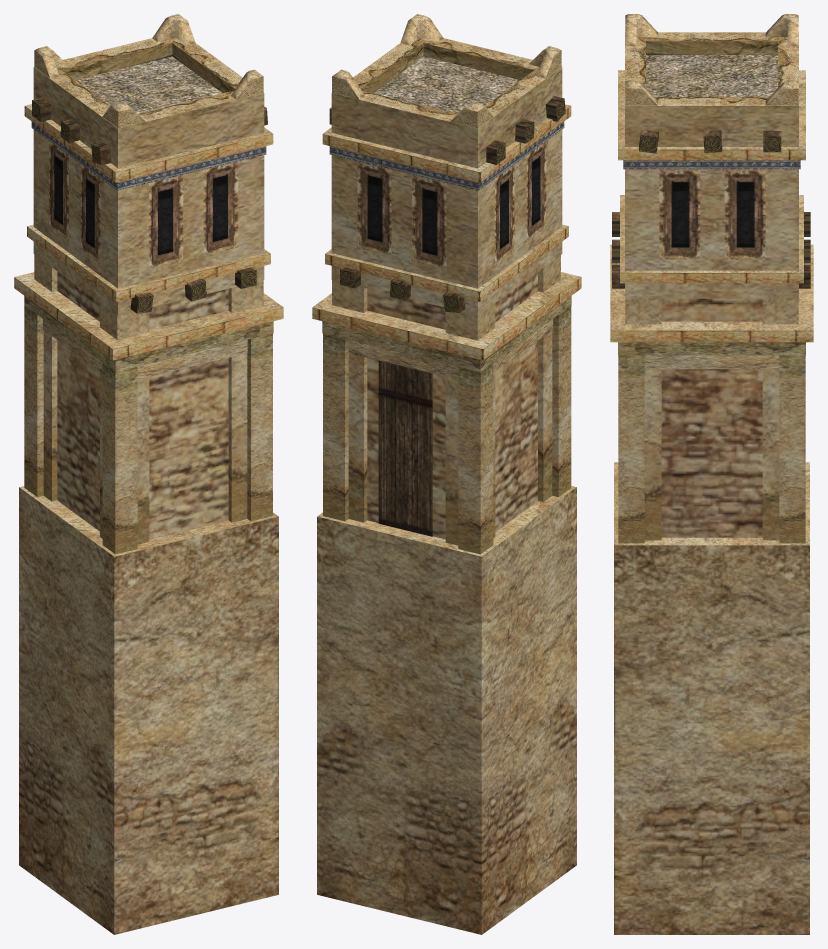
File: pers_wooden_tower.glb
The picture shows the model from 3 angles, left to right: view 1: azimuth 30°, elevation 25°; view 2: azimuth 150°, elevation 25°; view 3: azimuth 270°, elevation 25°; orthographic projection. The views are drawn at different scales.
Size of the model in its own units: 5.68 by 26.01 by 5.68.
Materials: 1 (1 with a texture image).
